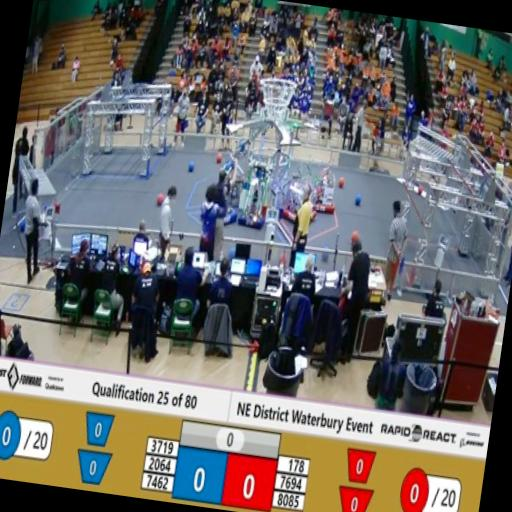robot: (195, 154, 246, 236), (208, 133, 251, 210), (280, 158, 324, 230), (238, 152, 274, 232), (304, 158, 342, 215)
